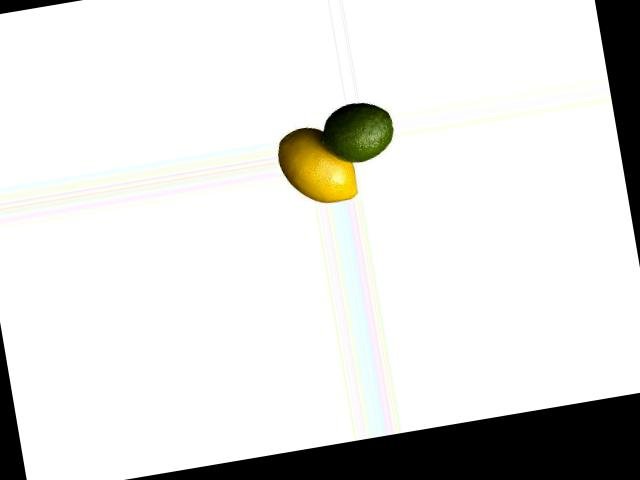lemon: (305, 93, 401, 180)
